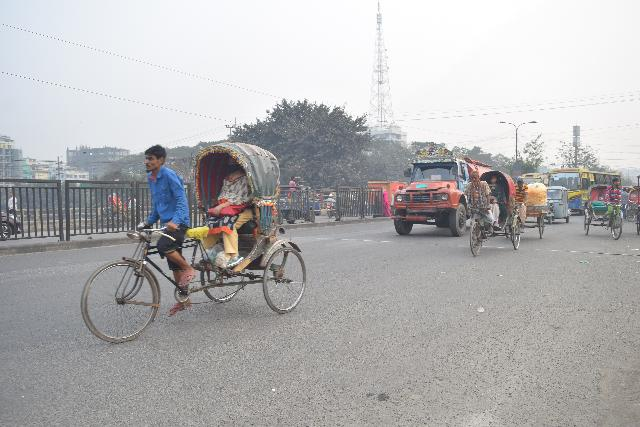bus: (543, 163, 590, 209)
truck: (384, 145, 470, 249)
